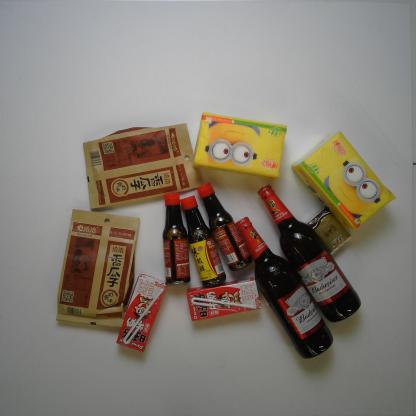Alcohol: (254, 183, 364, 325), (235, 215, 336, 361)
Dried Food: (81, 122, 204, 210), (53, 206, 141, 328)
Milk: (116, 272, 168, 355), (186, 276, 262, 323)
Seasoner: (194, 181, 254, 272), (178, 193, 228, 290), (161, 191, 192, 289)
Tissue: (290, 125, 397, 235), (190, 111, 289, 183), (304, 203, 353, 258)
